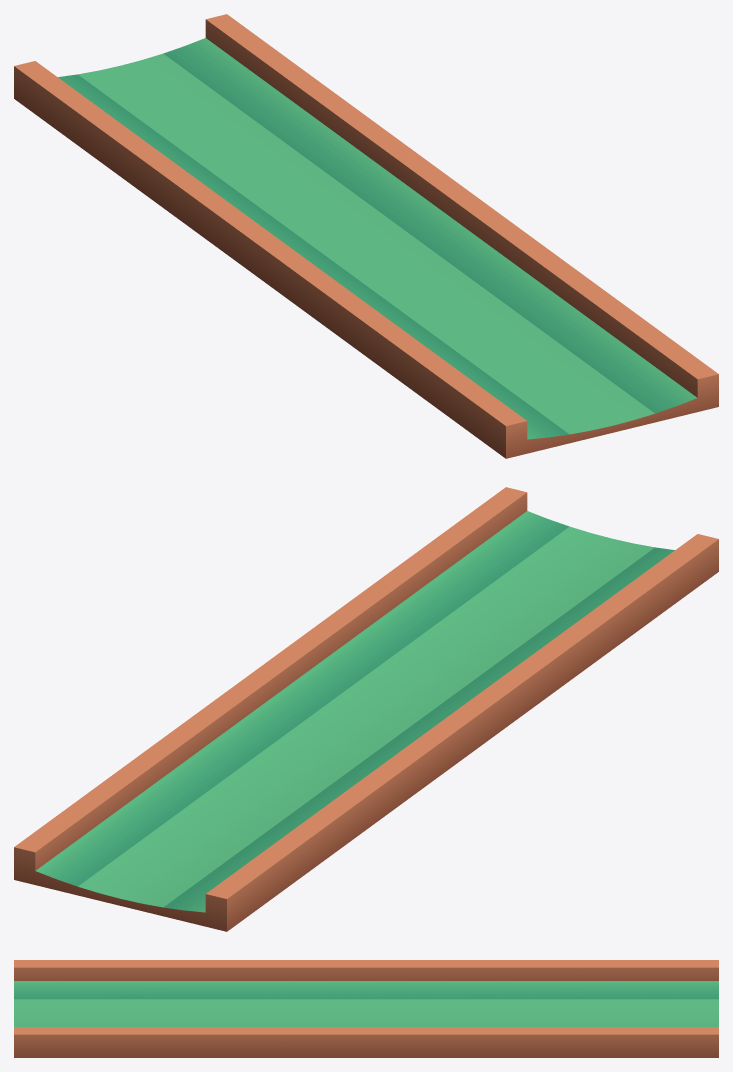
Rendered from spline-concave-straight.glb.
The picture shows the model from 3 angles, top to bottom: view 1: azimuth 30°, elevation 25°; view 2: azimuth 150°, elevation 25°; view 3: azimuth 270°, elevation 25°; orthographic projection. The views are drawn at different scales.
Visible parts, largest first — view 1: spline-concave-straight; view 2: spline-concave-straight; view 3: spline-concave-straight.
Boxes of the visible parts, x1=… form: spline-concave-straight: x1=14, y1=14, x2=718, y2=458; spline-concave-straight: x1=14, y1=487, x2=718, y2=931; spline-concave-straight: x1=14, y1=960, x2=718, y2=1057.
Bounding box in the file's own units: 0.9998 × 0.1467 × 4.
Materials: 1 (1 with a texture image).
